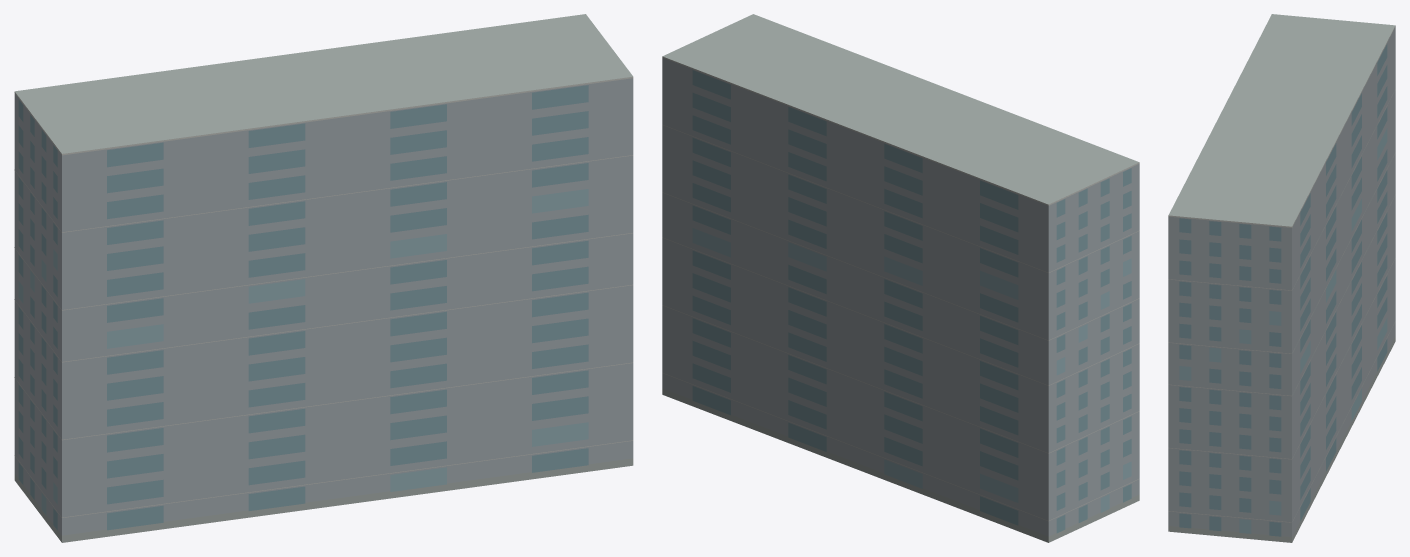
The model's file is residential-d3b2d26b-2558-4c07-b1d3-95b494bafc86.glb.
The picture shows the model from 3 angles, left to right: view 1: azimuth 30°, elevation 25°; view 2: azimuth 150°, elevation 25°; view 3: azimuth 270°, elevation 25°; orthographic projection. The views are drawn at different scales.
Visible parts, largest first — view 1: residential-d3b2d26b-2558-4c07-b1d3-95b494bafc86.tmp; view 2: residential-d3b2d26b-2558-4c07-b1d3-95b494bafc86.tmp; view 3: residential-d3b2d26b-2558-4c07-b1d3-95b494bafc86.tmp.
Boxes of the visible parts, left/top/right/bottom form: residential-d3b2d26b-2558-4c07-b1d3-95b494bafc86.tmp: left=14, top=14, right=633, bottom=542; residential-d3b2d26b-2558-4c07-b1d3-95b494bafc86.tmp: left=662, top=14, right=1139, bottom=542; residential-d3b2d26b-2558-4c07-b1d3-95b494bafc86.tmp: left=1168, top=14, right=1395, bottom=542.
Size of the model in its own units: 90.92 by 63 by 41.04.
